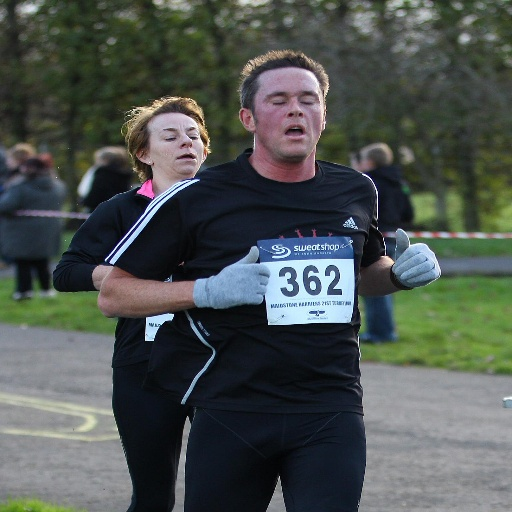hand: (206, 245, 270, 310), (386, 233, 449, 289)
